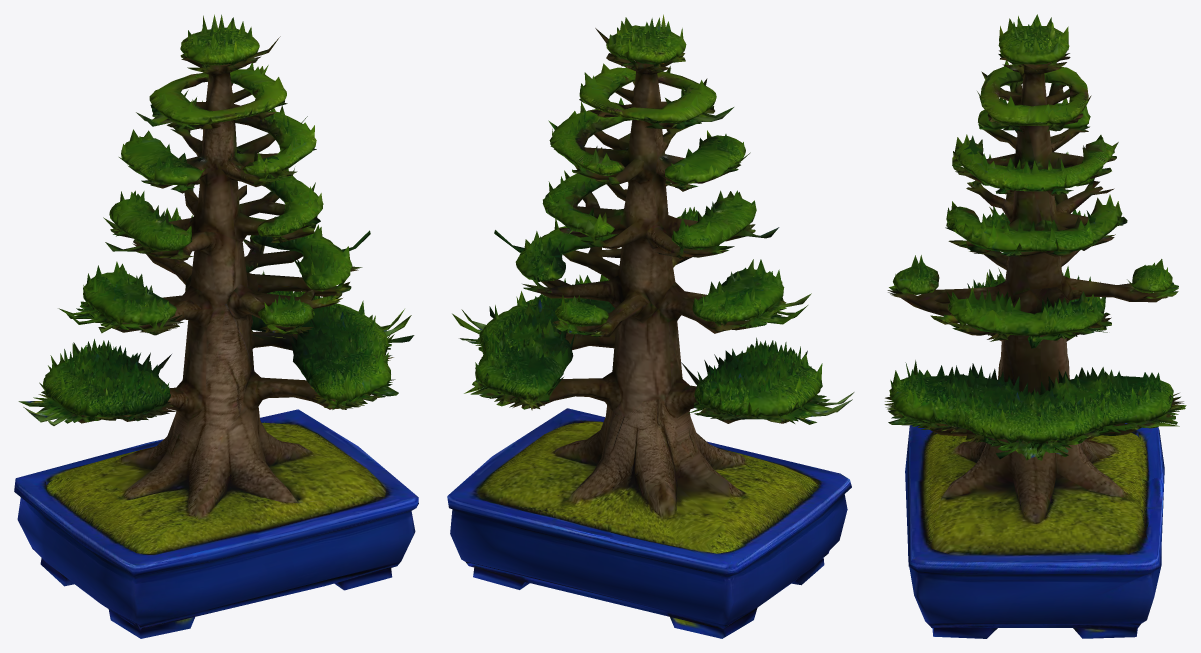
Rendered from bonsai_pine.glb.
The picture shows the model from 3 angles, left to right: view 1: azimuth 30°, elevation 25°; view 2: azimuth 150°, elevation 25°; view 3: azimuth 270°, elevation 25°; orthographic projection.
Parts seen in each view (by area): view 1: Formal Upright Pine Bonsai; view 2: Formal Upright Pine Bonsai; view 3: Formal Upright Pine Bonsai.
Part boxes in pixels (<box>): Formal Upright Pine Bonsai: <box>14,14,418,638</box>; Formal Upright Pine Bonsai: <box>447,14,854,638</box>; Formal Upright Pine Bonsai: <box>884,14,1186,638</box>.
Bounding box in the file's own units: 0.3323 × 0.4486 × 0.2207.
Materials: 1 (1 with a texture image).
